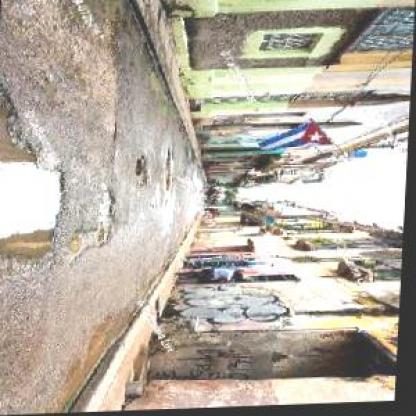pothole: (0, 73, 75, 265), (69, 226, 121, 261), (98, 189, 122, 248), (134, 155, 152, 189), (165, 147, 178, 191)
